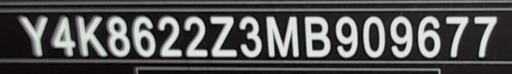letter: (264, 15, 302, 59), (75, 13, 107, 57), (16, 13, 48, 56), (300, 14, 332, 56), (412, 14, 442, 58), (468, 15, 500, 56), (154, 13, 182, 57), (130, 14, 158, 56), (385, 15, 413, 57), (441, 15, 469, 57), (180, 15, 208, 57), (208, 15, 236, 56), (332, 15, 360, 56), (105, 14, 131, 56), (50, 13, 74, 57), (236, 15, 262, 55), (360, 16, 386, 56)
